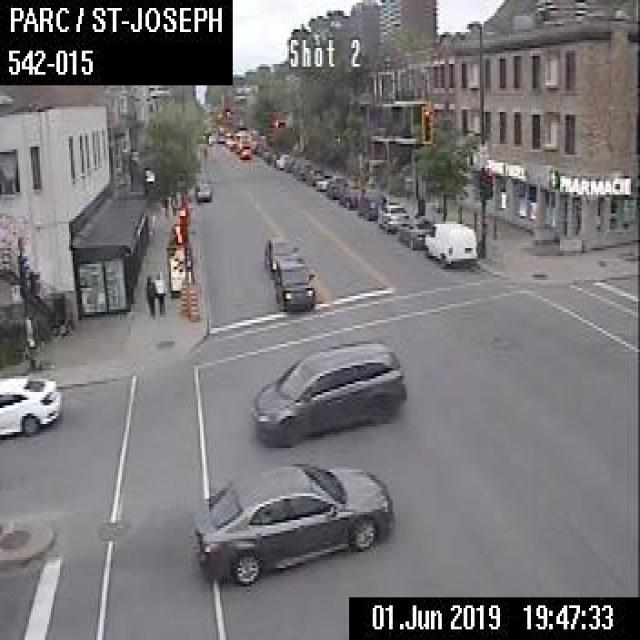construction: (187, 285, 199, 320), (178, 279, 188, 313)
pedestrian: (152, 271, 166, 314), (144, 274, 155, 316)
vehicle: (189, 456, 395, 587), (251, 336, 405, 448), (0, 370, 60, 434), (423, 220, 476, 266), (272, 254, 314, 307), (262, 235, 297, 274), (397, 215, 432, 248), (376, 201, 408, 233), (355, 189, 386, 219), (338, 184, 363, 207), (193, 173, 211, 200), (324, 175, 346, 197), (314, 171, 331, 188), (238, 142, 250, 158)
